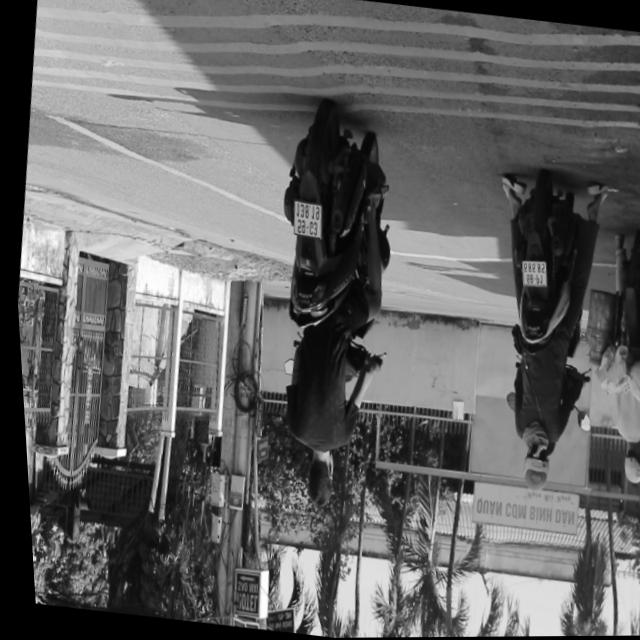helmet: (511, 446, 547, 498), (612, 442, 640, 488)
licenseplate: (236, 99, 418, 517), (466, 170, 615, 504), (582, 229, 640, 490)
motorcyclist: (293, 451, 332, 510)
nohelmet: (288, 203, 320, 238), (516, 261, 545, 290)
